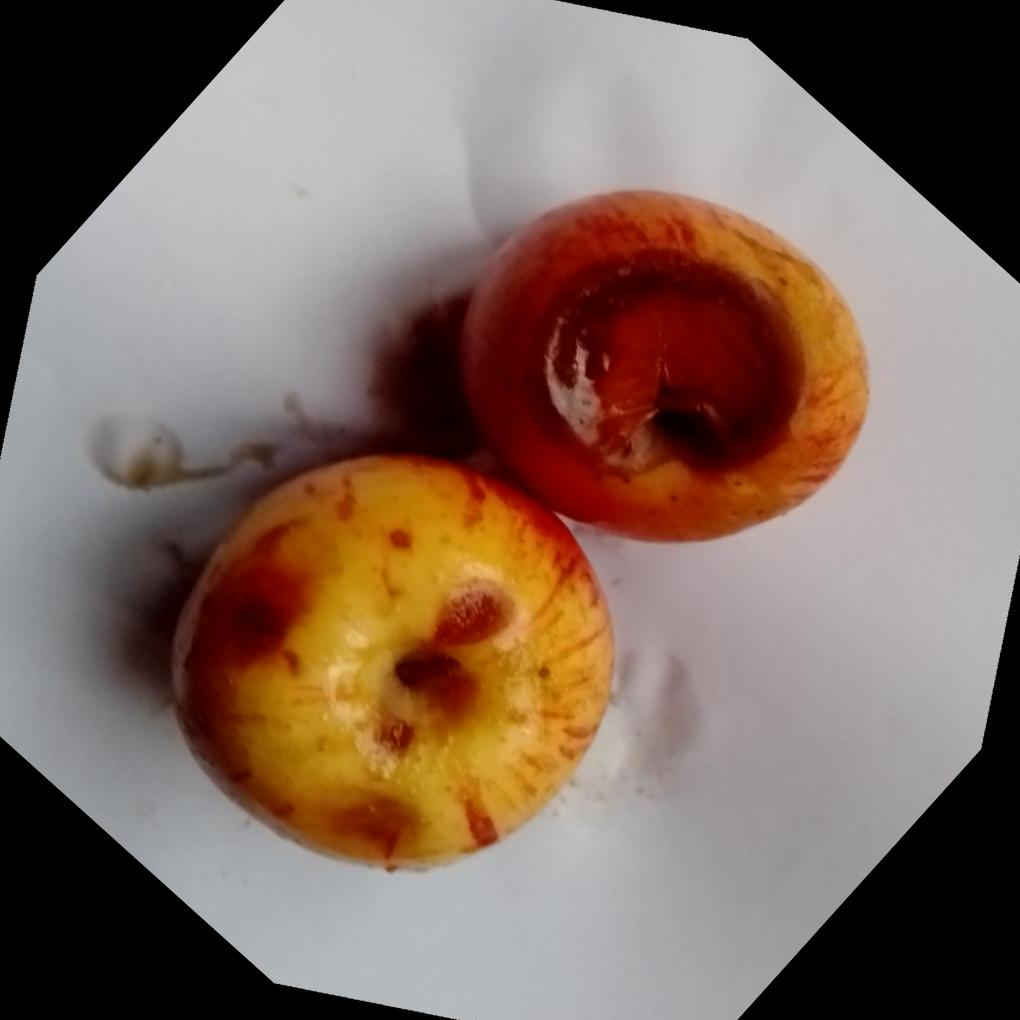FreshOrange: (171, 185, 869, 871)
